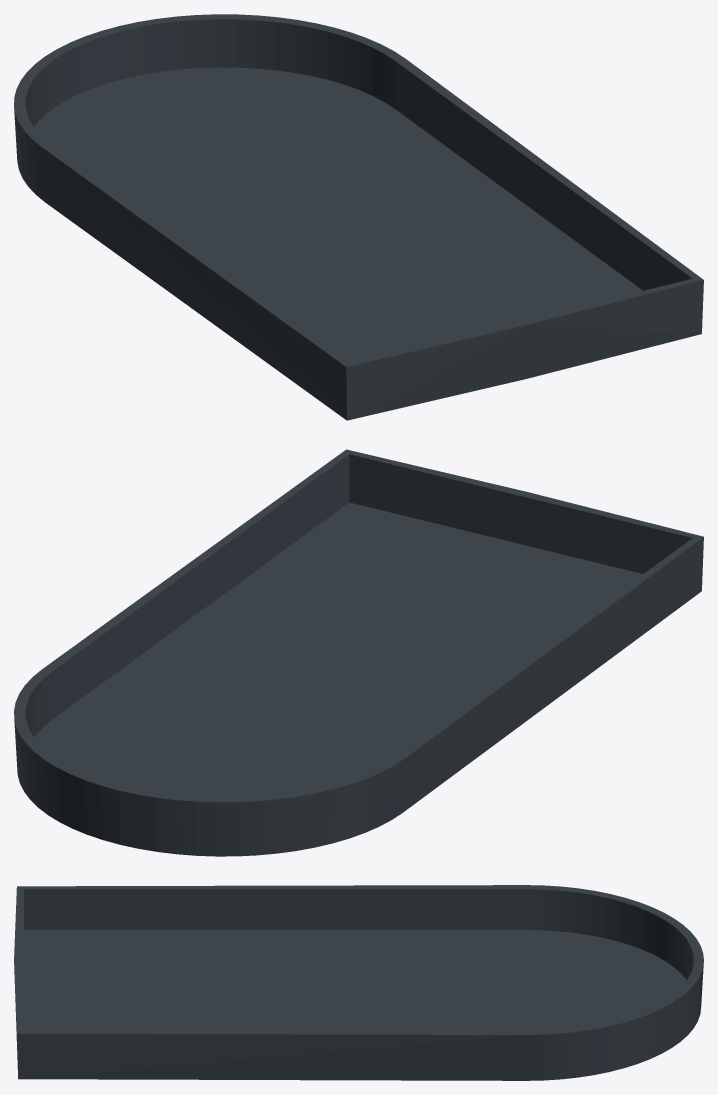
The model's file is boardC.obj.
3 renders of one model, top to bottom at view 1: azimuth 30°, elevation 25°; view 2: azimuth 150°, elevation 25°; view 3: azimuth 270°, elevation 25°, orthographic. The views are drawn at different scales.
Parts seen in each view (by area): view 1: Circle; view 2: Circle; view 3: Circle.
Boxes of the visible parts, x1=… form: Circle: x1=14, y1=14, x2=703, y2=420; Circle: x1=14, y1=449, x2=703, y2=856; Circle: x1=14, y1=885, x2=703, y2=1080.
Size of the model in its own units: 6.91 by 1.07 by 13.44.
Materials: 1 (1 with a texture image).
